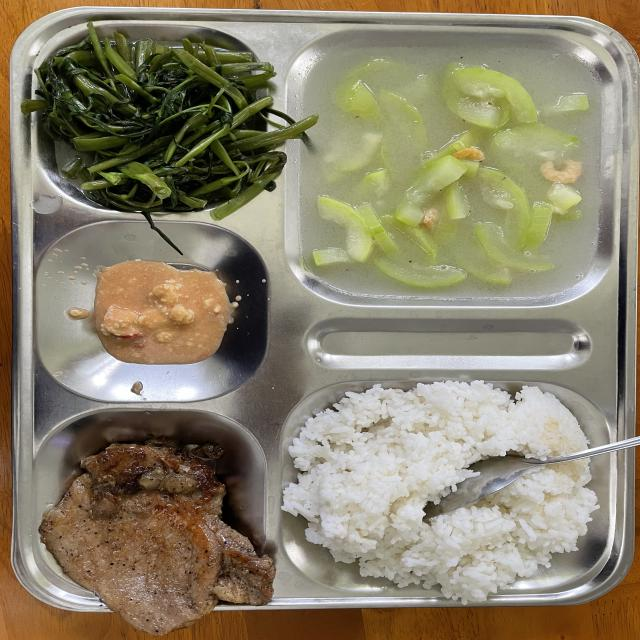canh bau: (298, 52, 605, 294)
com: (282, 381, 599, 601)
rau muong: (21, 22, 316, 221)
suon mieng: (39, 440, 275, 634)
